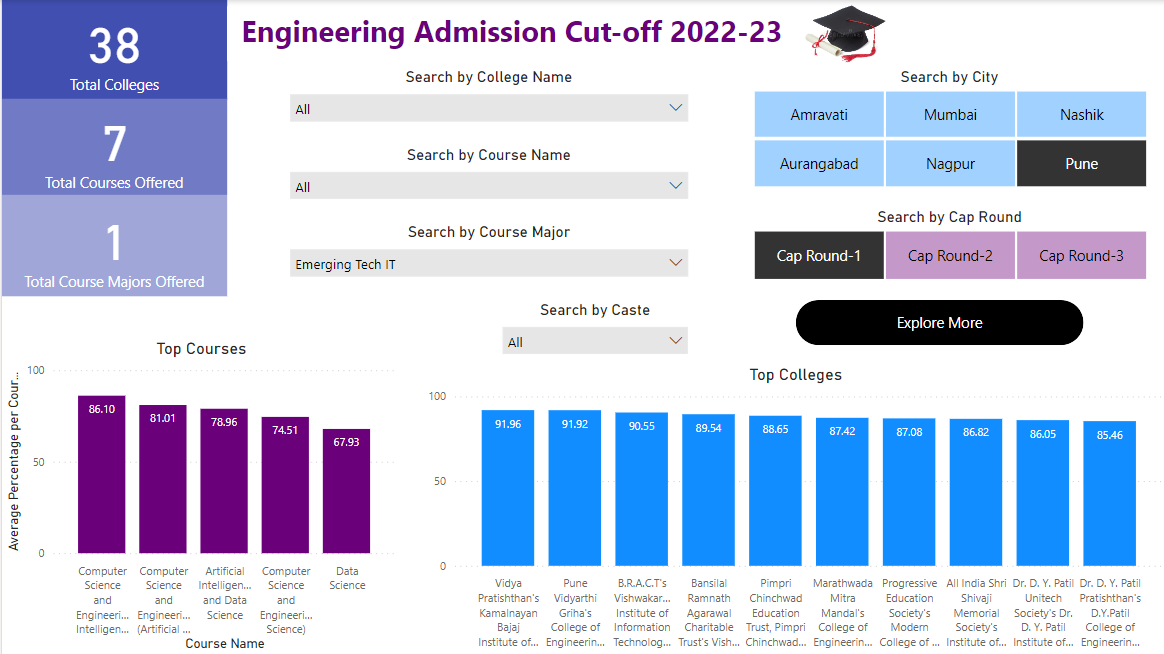

The page's visual inventory and layout, read from the dashboard file:
{"tool":"powerbi","page":{"name":"Top-N Overview","canvas":[1280,720],"ordinal":0},"visuals":[{"type":"card","fields":{"Values":["Count(mht-cet-2022-all-rounds-cutoff-mh.College Name)"]},"box":[0,0,247,108.4],"z":0},{"type":"card","fields":{"Values":["Count(mht-cet-2022-all-rounds-cutoff-mh.Course Name)"]},"box":[0,108.4,247,105.7],"z":1000},{"type":"card","fields":{"Values":["Count(mht-cet-2022-all-rounds-cutoff-mh.Course Major)"]},"box":[0,214.1,247,111.1],"z":2000},{"type":"slicer","title":"Search by City","fields":{"Values":["mht-cet-2022-all-rounds-cutoff-mh.City"]},"box":[800,74.1,480.3,137.2],"z":3000},{"type":"slicer","title":"Search by Course Major","fields":{"Values":["mht-cet-2022-all-rounds-cutoff-mh.Course Major"]},"box":[306,244.3,456.9,85.1],"z":4000},{"type":"columnChart","title":"Top Colleges","fields":{"Category":["mht-cet-2022-all-rounds-cutoff-mh.College Name"],"Y":["Base-Measures.Average Percentage per college"]},"box":[462.4,400.7,817.8,319.7],"z":5000},{"type":"columnChart","title":"Top Courses","fields":{"Category":["mht-cet-2022-all-rounds-cutoff-mh.Course Name"],"Y":["Base-Measures.Average Percentage per course"]},"box":[0,371.9,437.7,348.5],"z":6000},{"type":"slicer","title":"Search by College Name","fields":{"Values":["mht-cet-2022-all-rounds-cutoff-mh.College Name"]},"box":[306,74.1,456.9,85.1],"z":7000},{"type":"slicer","title":"Search by Cap Round","fields":{"Values":["mht-cet-2022-all-rounds-cutoff-mh.Cap Round"]},"box":[800,227.8,480.3,85.1],"z":8000},{"type":"slicer","title":"Search by Course Name","fields":{"Values":["mht-cet-2022-all-rounds-cutoff-mh.Course Name"]},"box":[306,159.2,456.9,85.1],"z":9000},{"type":"slicer","title":"Search by Caste","fields":{"Values":["mht-cet-2022-all-rounds-cutoff-mh.Caste Name"]},"box":[539.3,329.3,223.7,85.1],"z":10000},{"type":"image","box":[871.4,0,107,74.1],"z":11000},{"type":"textbox","box":[247,6.9,614.8,60.4],"z":12000},{"type":"actionButton","box":[871.4,329.3,315.6,49.4],"z":13000}]}

Visuals, with their boxes in screenshot pixels (x1, y1, x2, y2), scaled from the page's 1280x720 canvas onto the 1164x654 screenshot:
card - Count(mht-cet-2022-all-rounds-cutoff-mh.College Name): bbox=[0, 0, 225, 98]
card - Count(mht-cet-2022-all-rounds-cutoff-mh.Course Name): bbox=[0, 98, 225, 194]
card - Count(mht-cet-2022-all-rounds-cutoff-mh.Course Major): bbox=[0, 194, 225, 295]
"Search by City" slicer: bbox=[728, 67, 1163, 192]
"Search by Course Major" slicer: bbox=[278, 222, 694, 299]
"Top Colleges" columnChart: bbox=[420, 364, 1163, 653]
"Top Courses" columnChart: bbox=[0, 338, 398, 653]
"Search by College Name" slicer: bbox=[278, 67, 694, 145]
"Search by Cap Round" slicer: bbox=[728, 207, 1163, 284]
"Search by Course Name" slicer: bbox=[278, 145, 694, 222]
"Search by Caste" slicer: bbox=[490, 299, 694, 376]
image: bbox=[792, 0, 890, 67]
textbox: bbox=[225, 6, 784, 61]
actionButton: bbox=[792, 299, 1079, 344]
